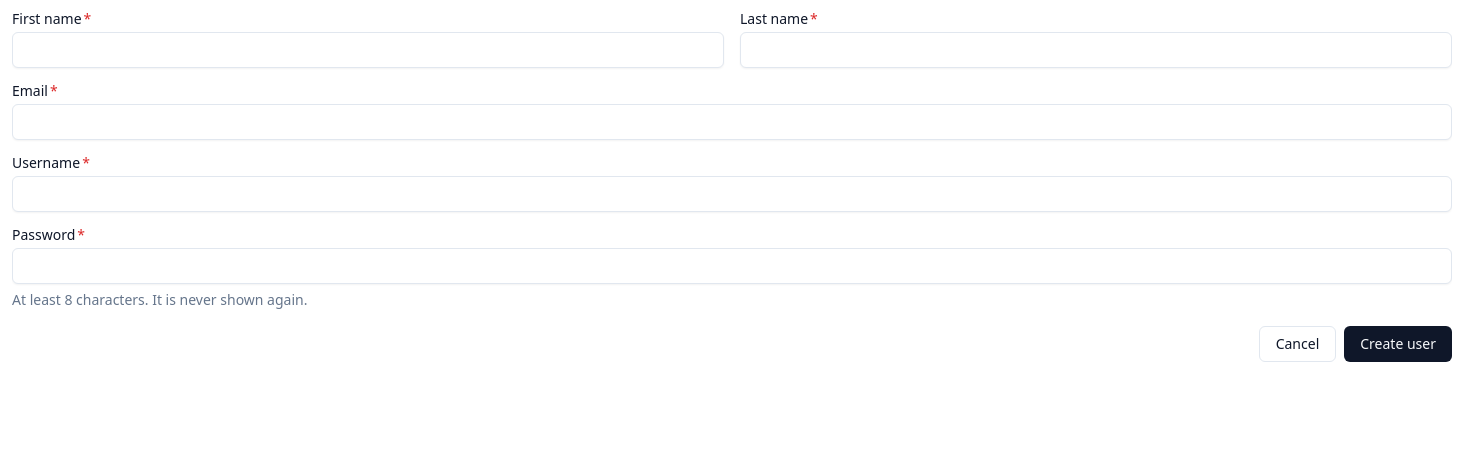
it: UserForm — validation and state › requires {}
Click the button "Create user". click: point(1398, 344)
box: [1344, 326, 1452, 362]
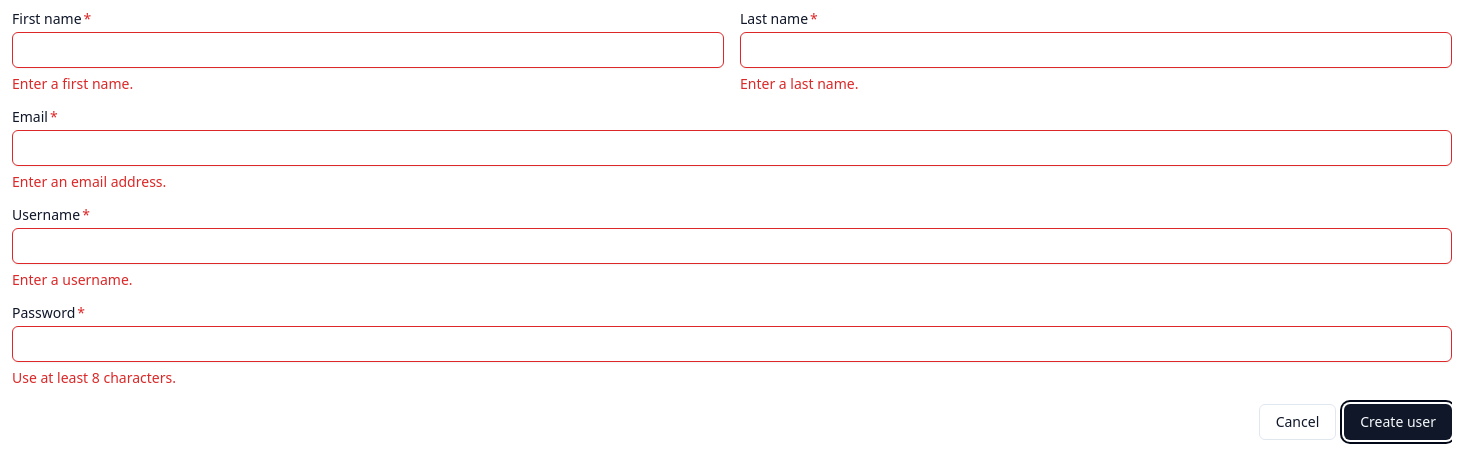
expect the text "Enter a first name." is shown: met, box [12, 74, 133, 93]
